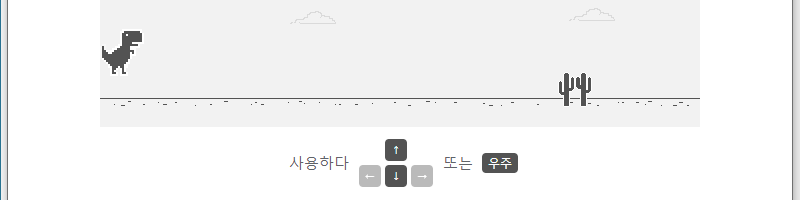dinosaur: (100, 31, 144, 76)
obstacle: (552, 69, 594, 108)
